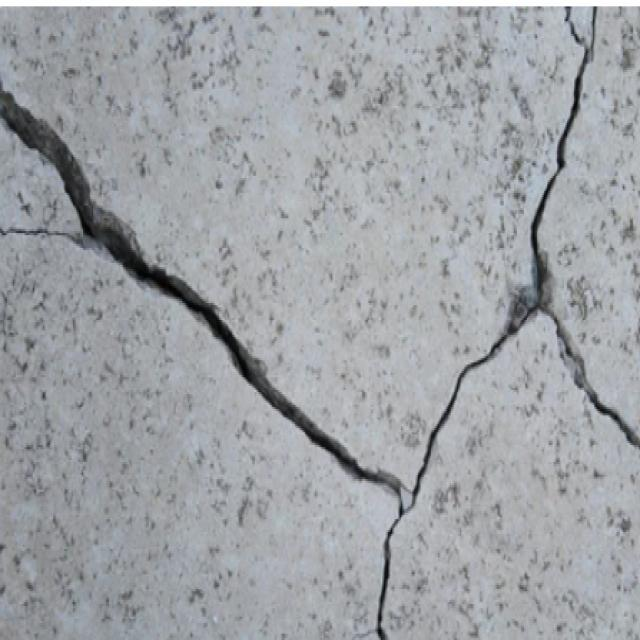branched cracks: (0, 7, 639, 639)
